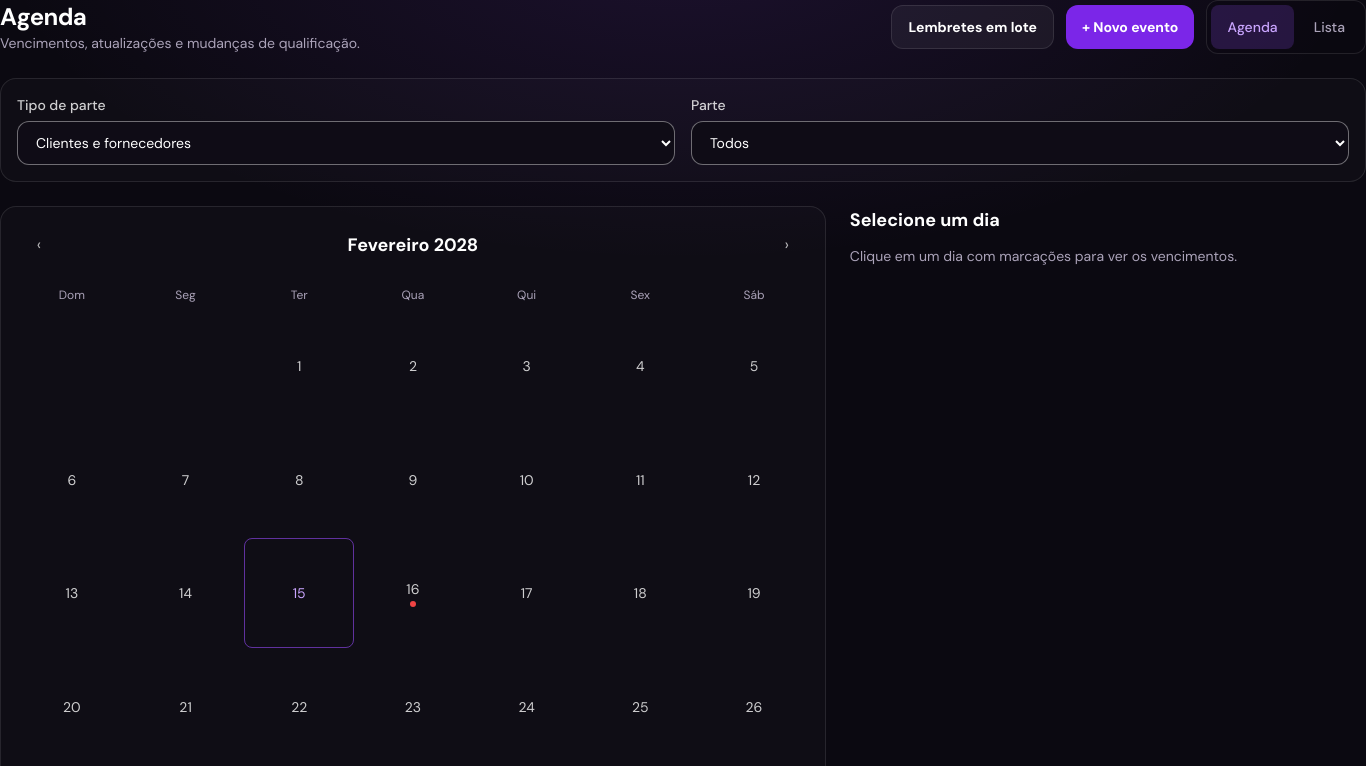
it: lembretes ao cliente (Issue #12) › gera lembretes em lote pré-selecionando os vencimentos dentro de 2 dias
Click the button "Lembretes em lote" at (973, 27), box top-left (892, 5), bottom-right (1054, 49)
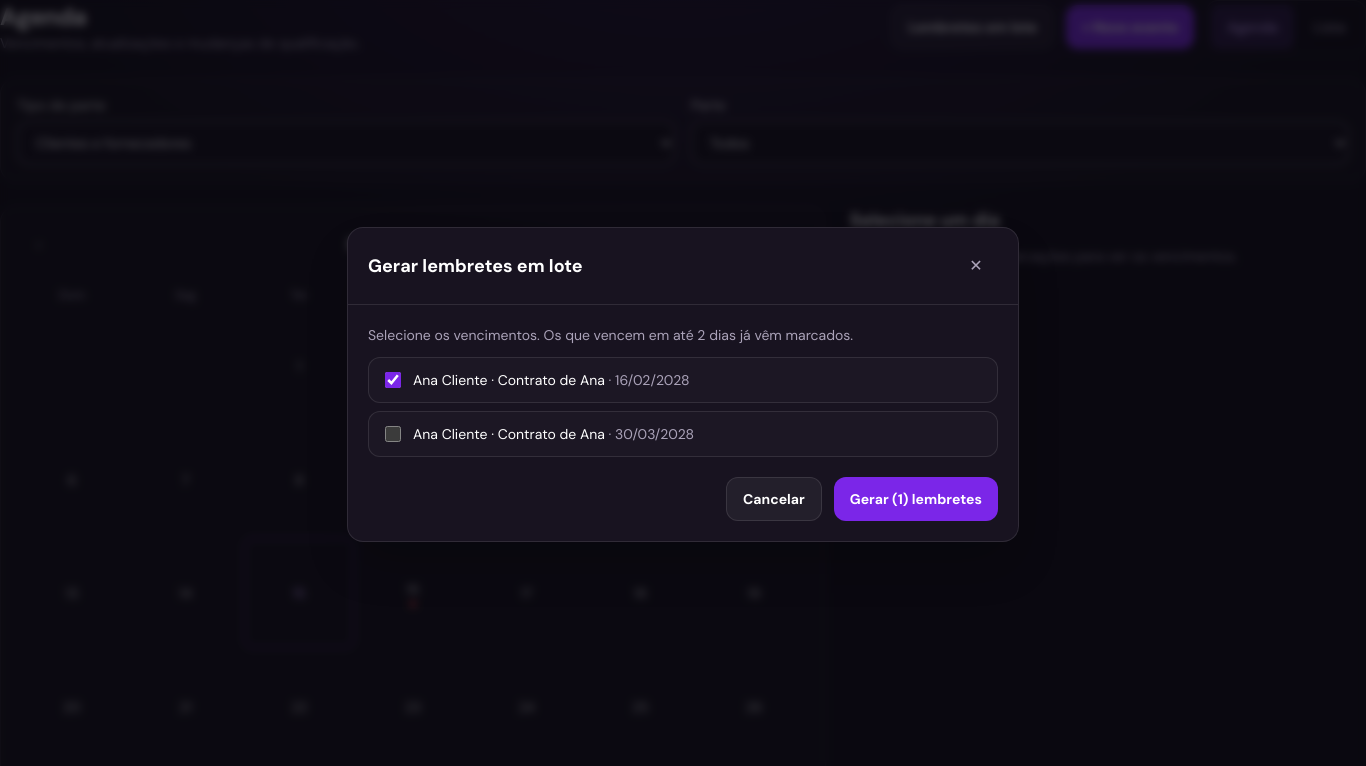
Check: the number of checkboxes is 2, box top-left (385, 372), bottom-right (401, 388); top-left (385, 426), bottom-right (401, 442)
Check: the checkbox labelled "Ana Cliente · Contrato de Ana · 16/02/2028" is checked, box top-left (385, 372), bottom-right (401, 388)
Check: the checkbox labelled "Ana Cliente · Contrato de Ana · 30/03/2028" is not checked, box top-left (385, 426), bottom-right (401, 442)
Click the button "Gerar (1) lembretes" at (916, 498), box top-left (834, 476), bottom-right (998, 520)
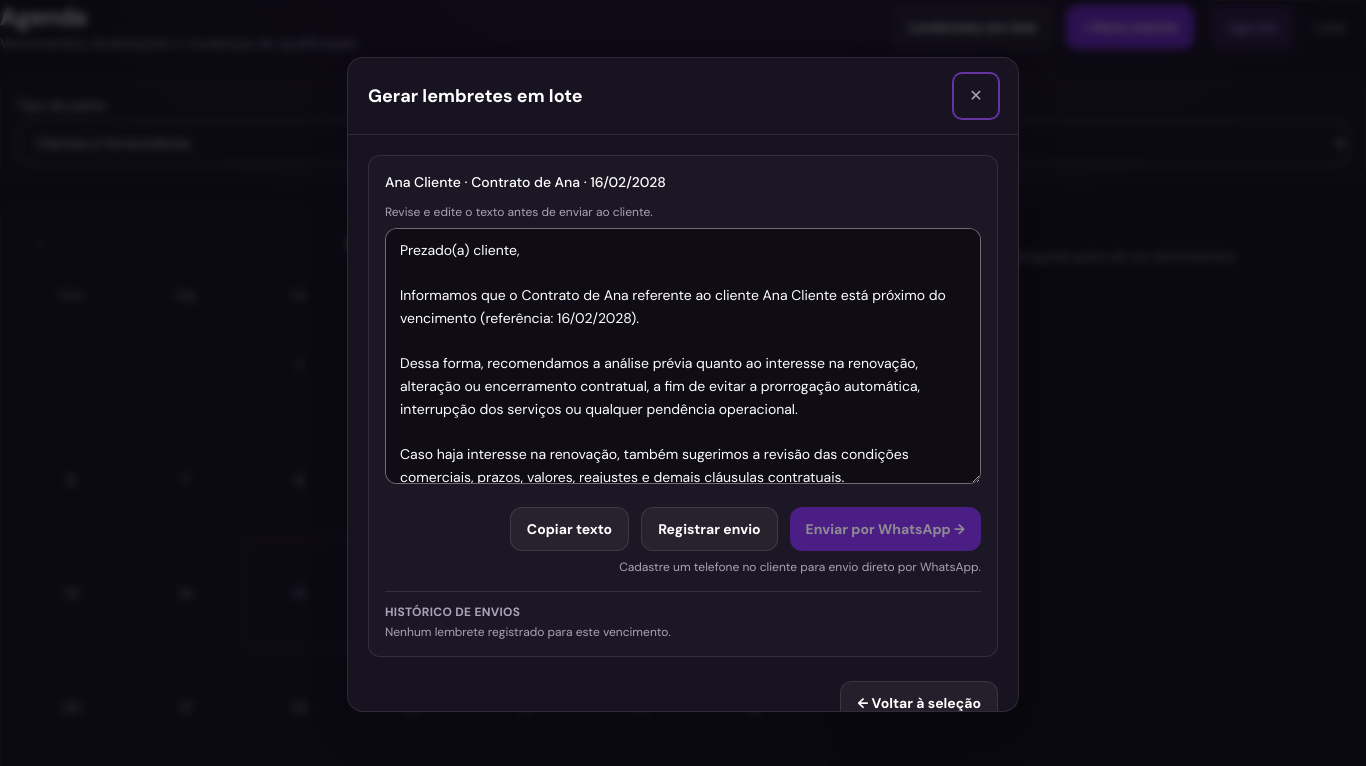
Check: the number of text boxes named "Texto do lembrete" is 1, box top-left (385, 228), bottom-right (981, 484)
